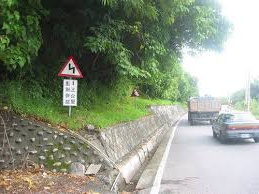Double_bend_left: (57, 55, 84, 78)
